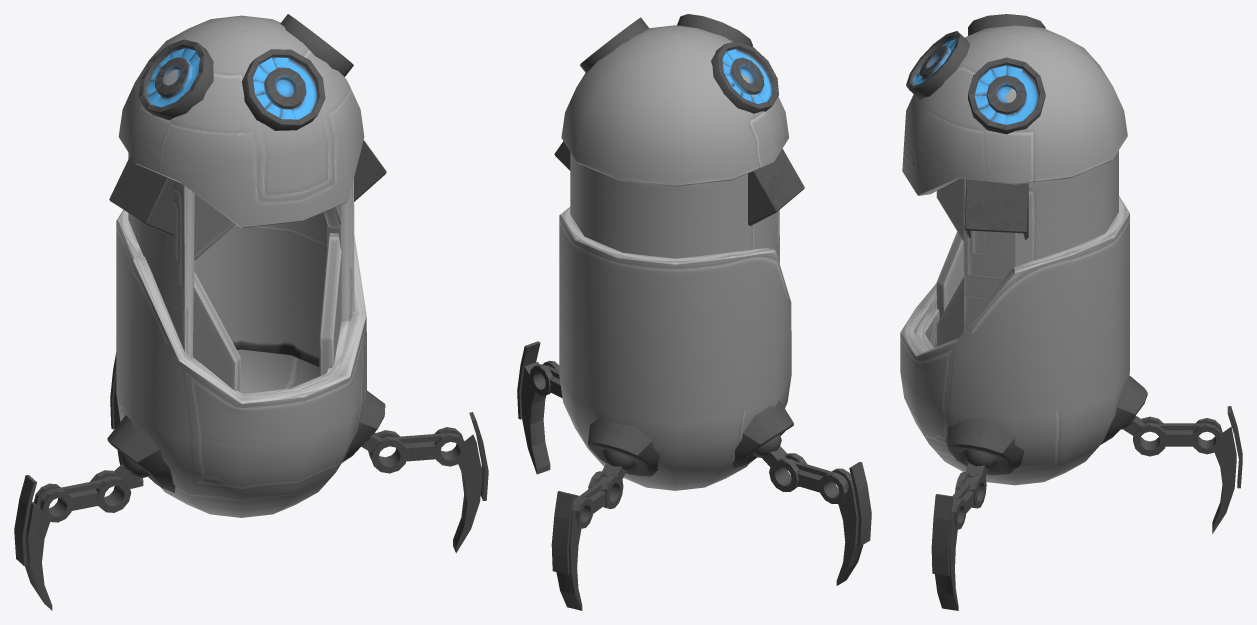
Rendered from capsule_impl.FBX.
The picture shows the model from 3 angles, left to right: view 1: azimuth 30°, elevation 25°; view 2: azimuth 150°, elevation 25°; view 3: azimuth 270°, elevation 25°; orthographic projection. The views are drawn at different scales.
Parts seen in each view (by area): view 1: Object002, Tube002; view 2: Object002, Tube002; view 3: Object002, Tube002.
Boxes of the visible parts, x1,y1,x2,y2 form: Object002: [116, 15, 366, 517]; Tube002: [14, 14, 488, 610]; Object002: [559, 25, 791, 490]; Tube002: [517, 14, 871, 610]; Object002: [900, 25, 1129, 485]; Tube002: [906, 14, 1242, 610].
Size of the model in its own units: 317 by 387 by 242.
2 materials, 2 textured.
